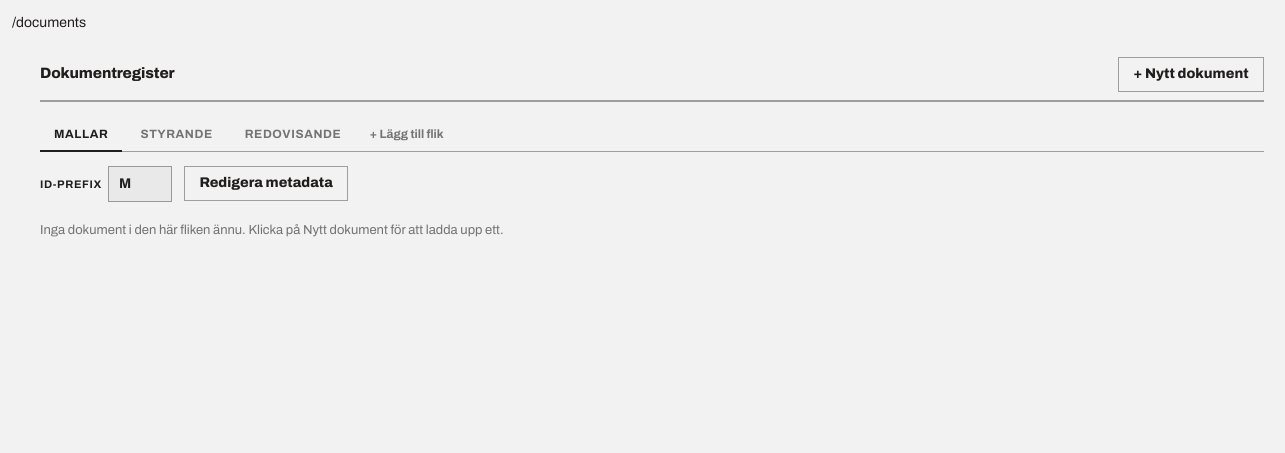
adding a document › adds the document to the register on save
Click the button "+ Nytt dokument": coordinates (1191, 74) 1118,57 -> 1264,92
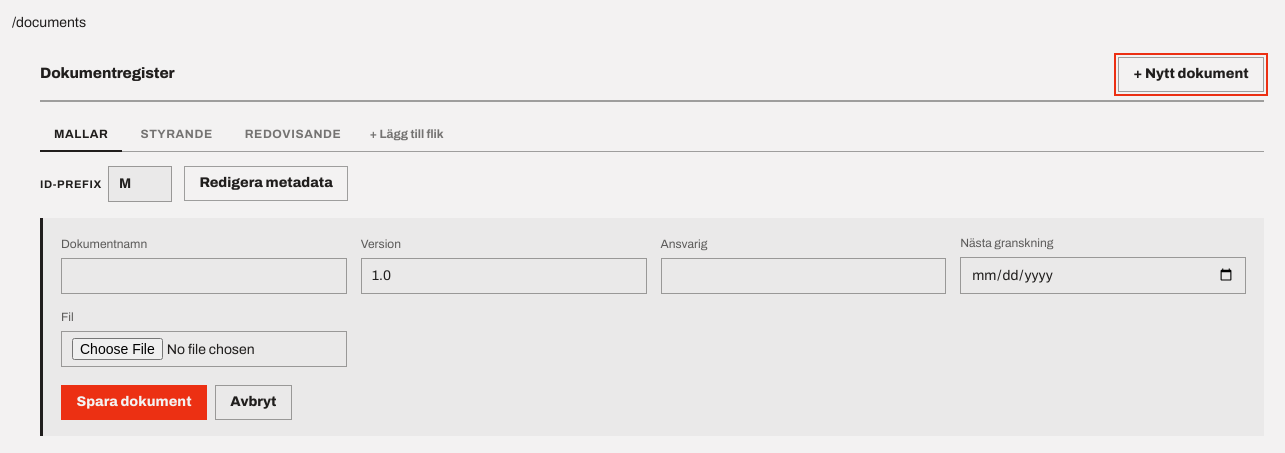
In the field labelled "Dokumentnamn": coordinates (204, 276) 61,258 -> 347,294, type "Kvalitetshandbok"
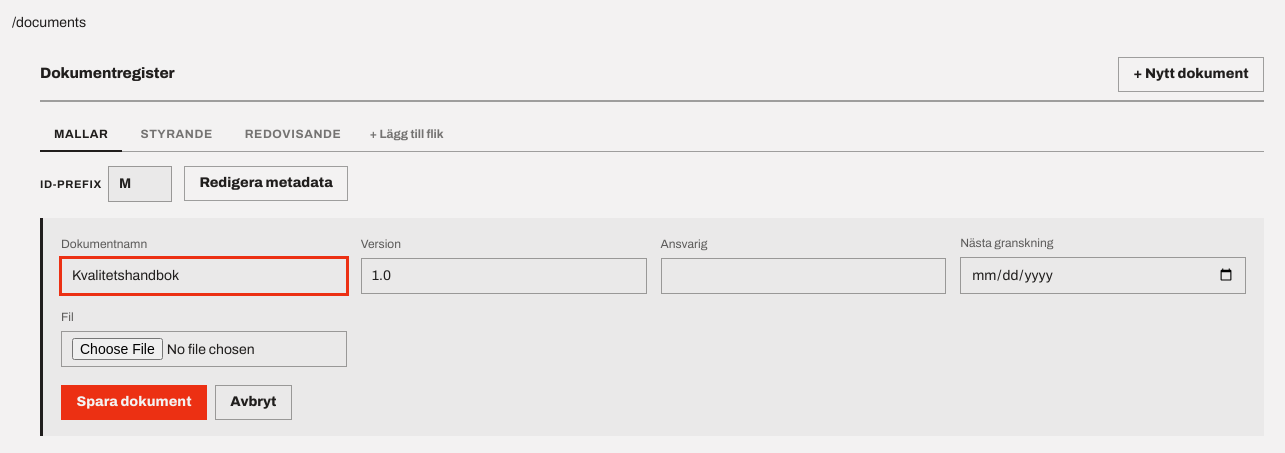
In the field labelled "Ansvarig": coordinates (803, 276) 660,258 -> 946,294, type "Maja Karlsson"
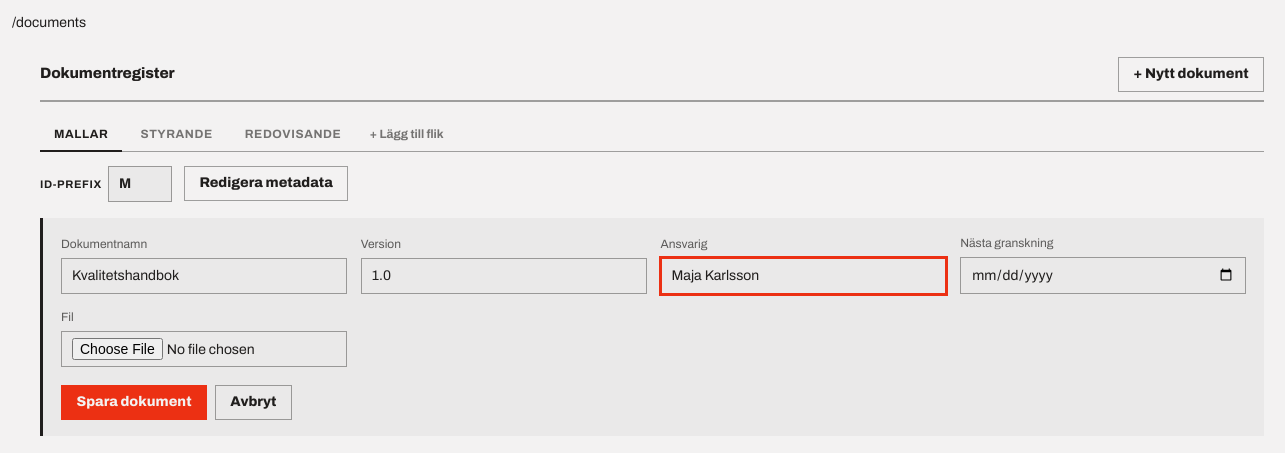
Click the button "Spara dokument": coordinates (134, 402) 61,385 -> 207,420
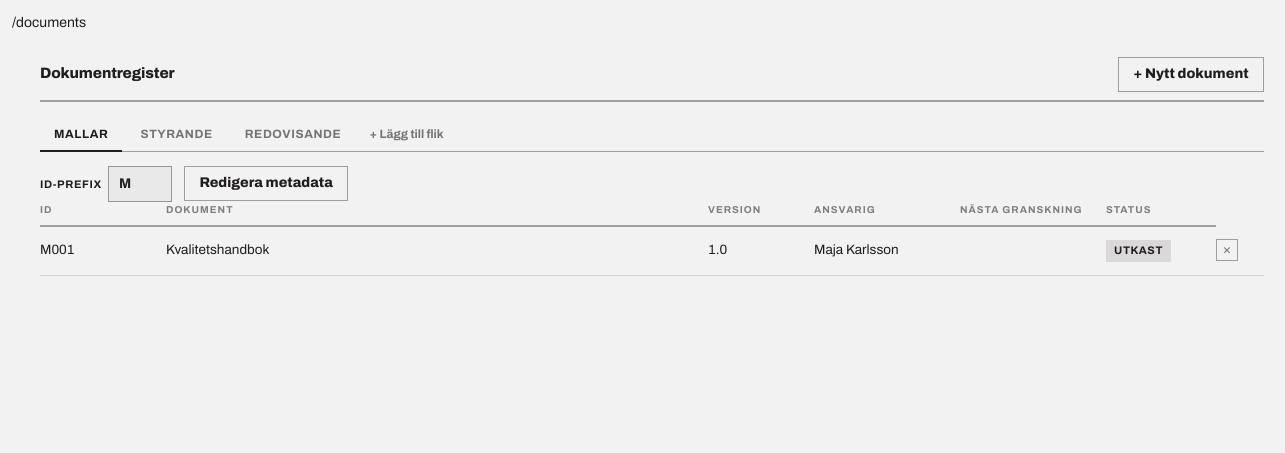
Now the table is shown, box 40,202 -> 1264,276
Now the text "Kvalitetshandbok" is shown, box 166,226 -> 708,275
Now the text "M001" is shown, box 40,226 -> 166,275
